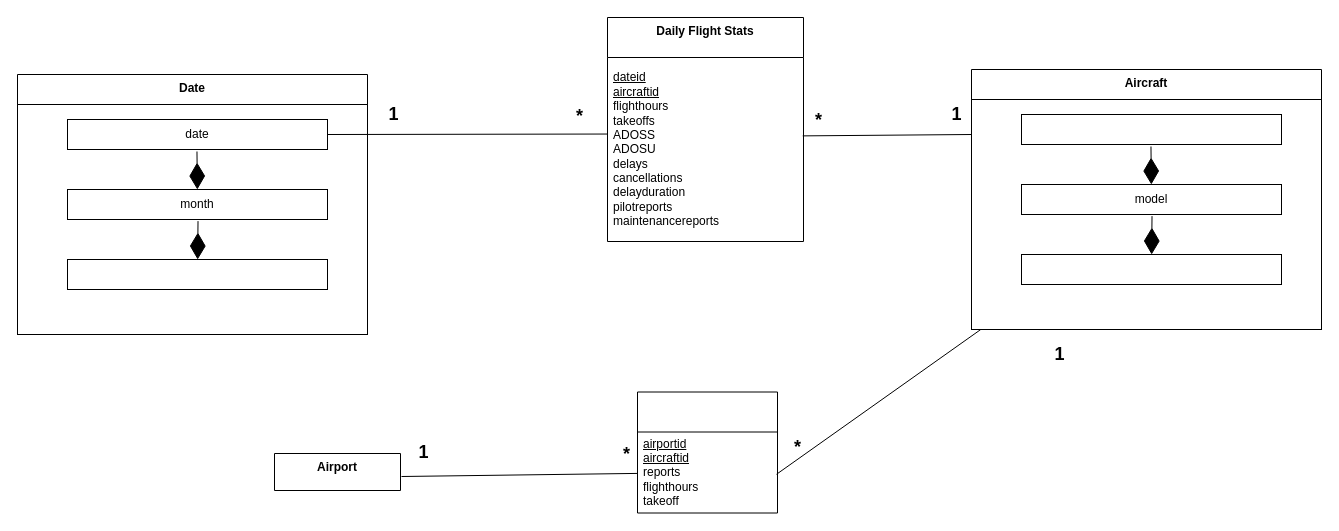
This 1339x531 diagram has some shape labels left out. The box of each missing label's shape, as (x1, y1, x2, y2) in pixels:
aircraftregistration: (1020, 114, 1282, 144)
manufacturer: (1020, 254, 1282, 284)
Total Maintenance Reports: (636, 391, 778, 513)
year: (66, 258, 328, 290)
